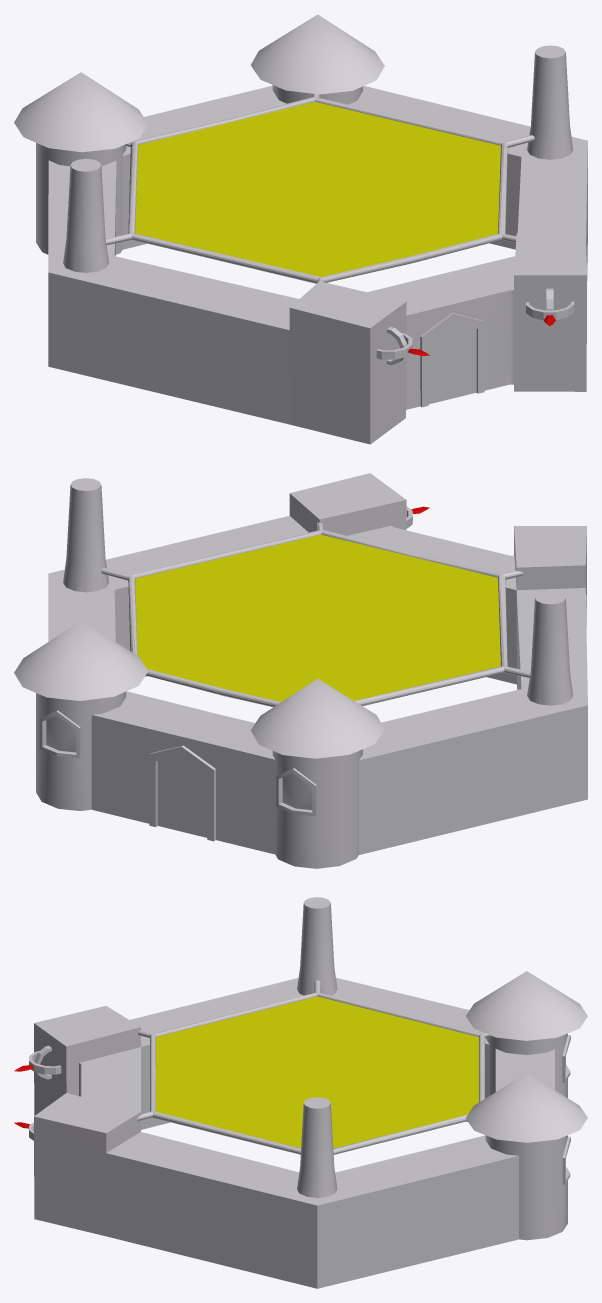
Rendered from barracks.fbx.
3 renders of one model, top to bottom at view 1: azimuth 30°, elevation 25°; view 2: azimuth 150°, elevation 25°; view 3: azimuth 270°, elevation 25°, orthographic. The views are drawn at different scales.
Visible parts, largest first — view 1: barracks_barracks_forUVL_polySurface1; view 2: barracks_barracks_forUVL_polySurface1; view 3: barracks_barracks_forUVL_polySurface1.
Boxes of the visible parts, box(x1,y1,x2,y2) form: barracks_barracks_forUVL_polySurface1: box(14, 14, 587, 444); barracks_barracks_forUVL_polySurface1: box(14, 473, 587, 868); barracks_barracks_forUVL_polySurface1: box(14, 897, 587, 1288).
Bounding box in the file's own units: 3.2 × 1.09 × 3.33.
